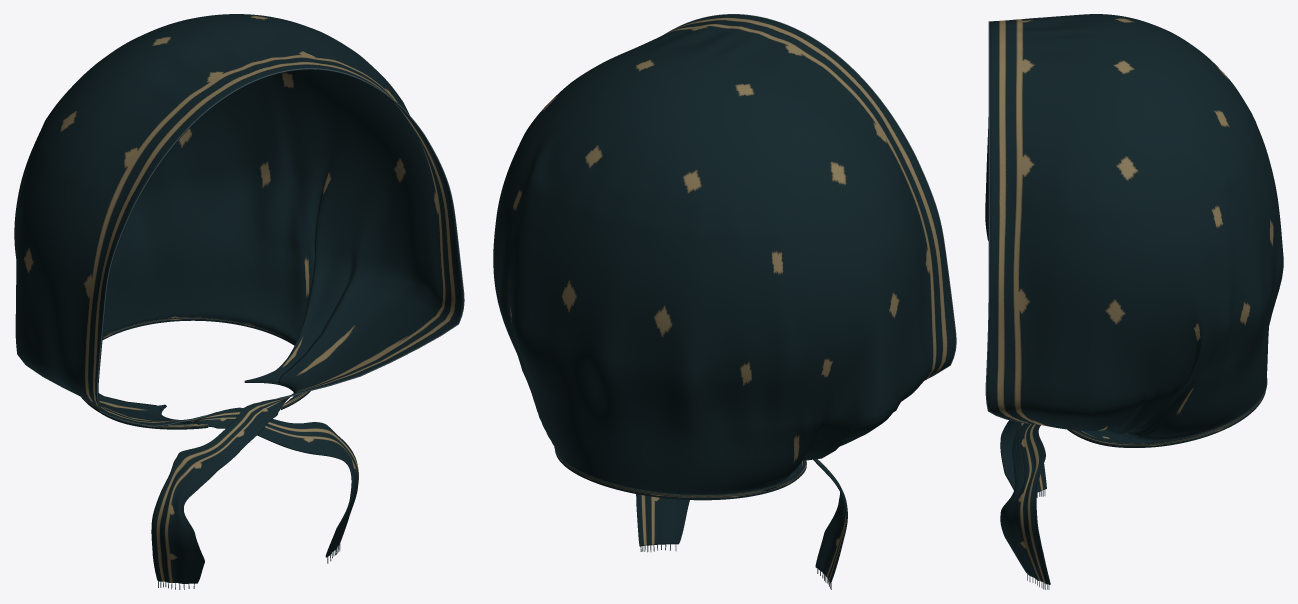
File: Feminine-open-volume-pashmina248-headgear.glb
3 renders of one model, left to right at view 1: azimuth 30°, elevation 25°; view 2: azimuth 150°, elevation 25°; view 3: azimuth 270°, elevation 25°, orthographic. The views are drawn at different scales.
Visible parts, largest first — view 1: 226 headgear / Headwear / continuous woven pashmina239, 226 headgear / Headwear / face edge239; view 2: 226 headgear / Headwear / continuous woven pashmina239, 226 headgear / Headwear / face edge239; view 3: 226 headgear / Headwear / continuous woven pashmina239, 226 headgear / Headwear / face edge239.
Part boxes in pixels (x1=…): 226 headgear / Headwear / continuous woven pashmina239: x1=14, y1=14, x2=463, y2=583; 226 headgear / Headwear / face edge239: x1=96, y1=68, x2=464, y2=426; 226 headgear / Headwear / continuous woven pashmina239: x1=493, y1=14, x2=955, y2=583; 226 headgear / Headwear / face edge239: x1=664, y1=14, x2=956, y2=379; 226 headgear / Headwear / continuous woven pashmina239: x1=985, y1=14, x2=1283, y2=584; 226 headgear / Headwear / face edge239: x1=985, y1=21, x2=1031, y2=423.
Bounding box in the file's own units: 1.02 × 1.35 × 0.7113.
3 materials, 1 textured.
